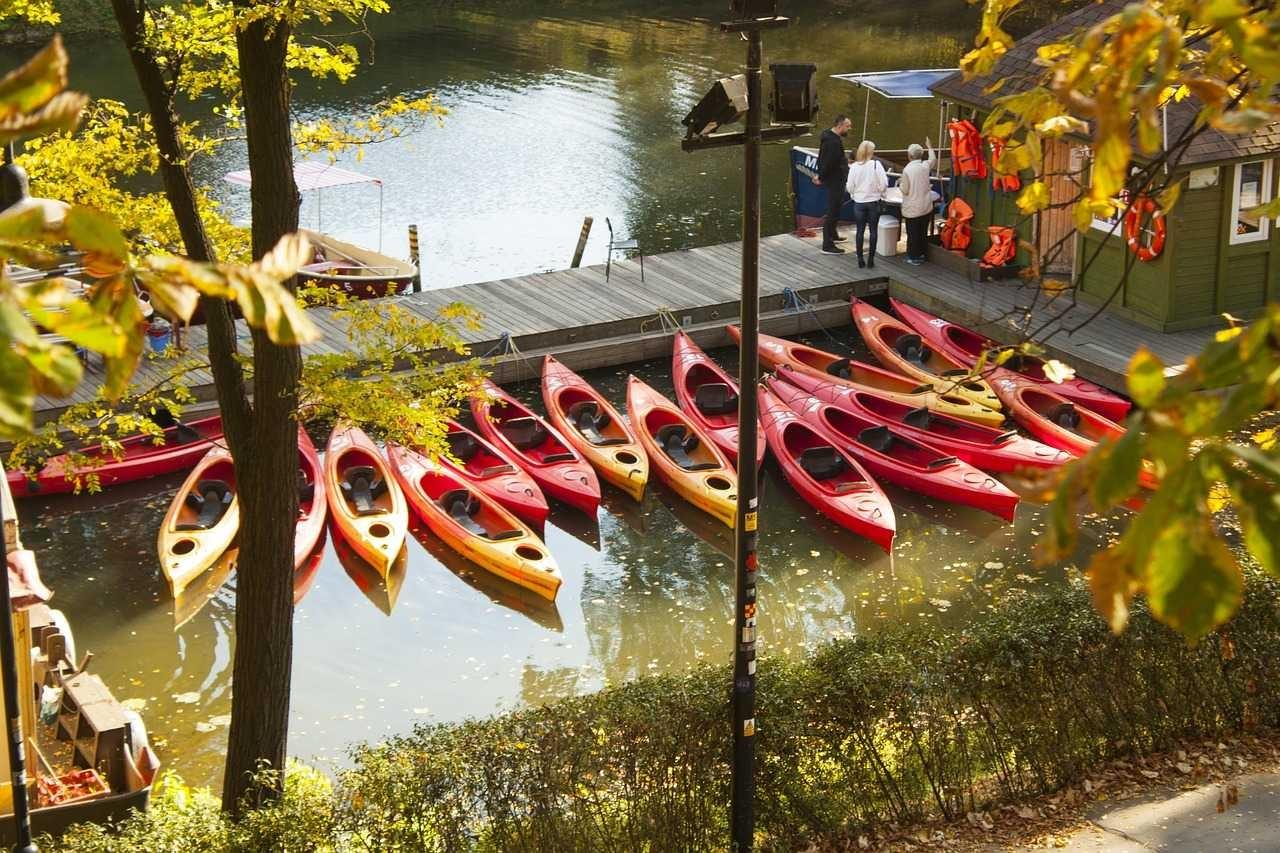kayak: (1, 467, 160, 833), (673, 331, 898, 554), (752, 359, 1059, 518), (868, 293, 1135, 450), (155, 420, 327, 627), (725, 325, 1040, 438), (382, 438, 564, 604), (758, 394, 899, 550), (624, 373, 758, 535), (4, 405, 224, 497), (849, 294, 1016, 413), (470, 378, 602, 517), (541, 353, 650, 503), (323, 420, 410, 607), (156, 448, 243, 606), (671, 329, 764, 473), (437, 421, 553, 535), (988, 373, 1130, 458), (295, 259, 417, 299)
